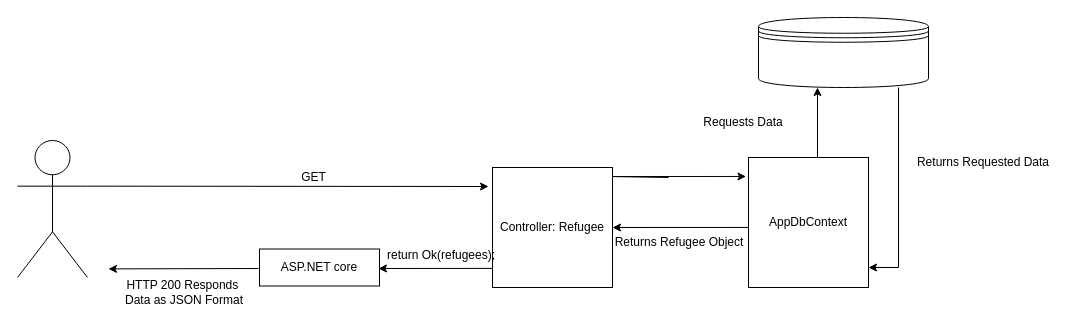
This 1076x325 diagram has some shape labels left out. Each missing label, with the centre of its shape:
DataBase registrate_refugees: [843,52]
Klient: [52,209]
